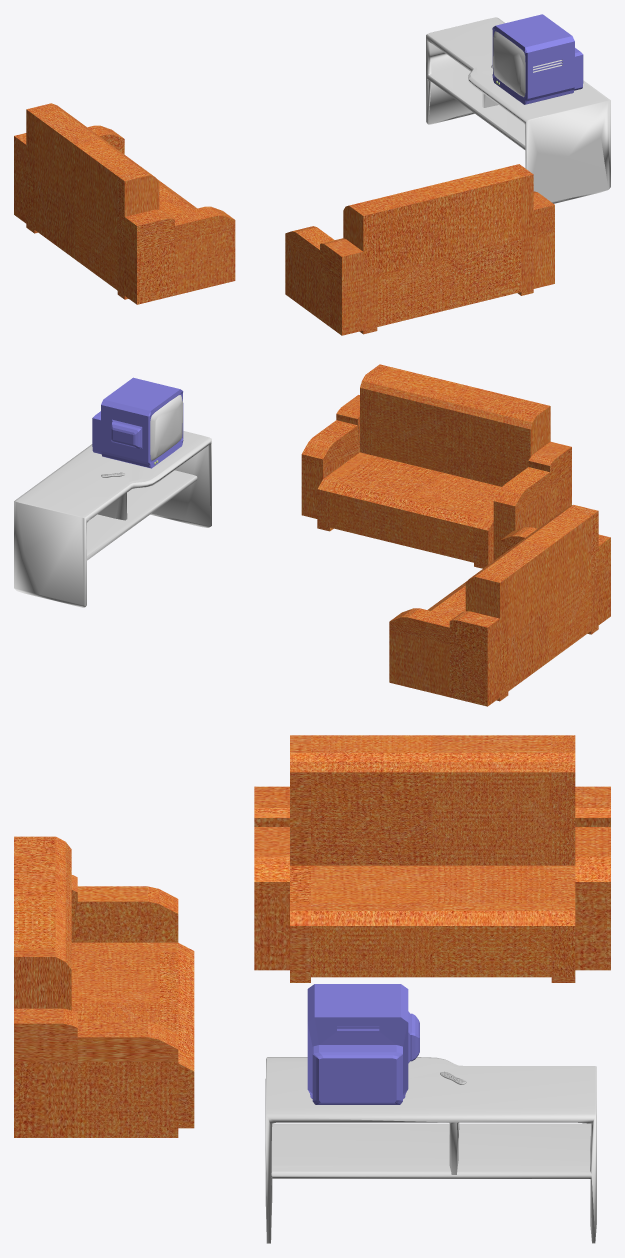
The model's file is Itens-SalaTV.fbx.
3 renders of one model, top to bottom at view 1: azimuth 30°, elevation 25°; view 2: azimuth 150°, elevation 25°; view 3: azimuth 270°, elevation 25°, orthographic. The views are drawn at different scales.
Visible parts, largest first — view 1: Sofá, Sofá.001, Rack_TV, TV, Tela; view 2: Sofá, Sofá.001, Rack_TV, TV, Tela; view 3: Sofá.001, Sofá, Rack_TV, TV.
Boxes of the visible parts, box(x1,y1,x2,y2) form: Sofá: box(285, 164, 554, 335); Sofá.001: box(14, 103, 235, 304); Rack_TV: box(426, 17, 610, 203); TV: box(492, 14, 583, 104); Tela: box(493, 31, 525, 97); Sofá: box(301, 364, 571, 568); Sofá.001: box(389, 504, 610, 706); Rack_TV: box(14, 431, 211, 607); TV: box(92, 377, 183, 468); Tela: box(150, 395, 182, 460); Sofá.001: box(254, 735, 610, 982); Sofá: box(14, 836, 194, 1137); Rack_TV: box(265, 1057, 596, 1243); TV: box(307, 984, 419, 1104).
Size of the model in its own units: 646 by 190 by 482.
